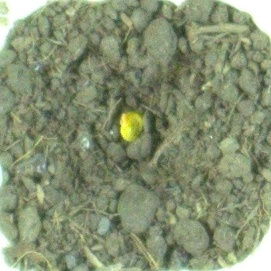chilli seed: (118, 109, 145, 141)
